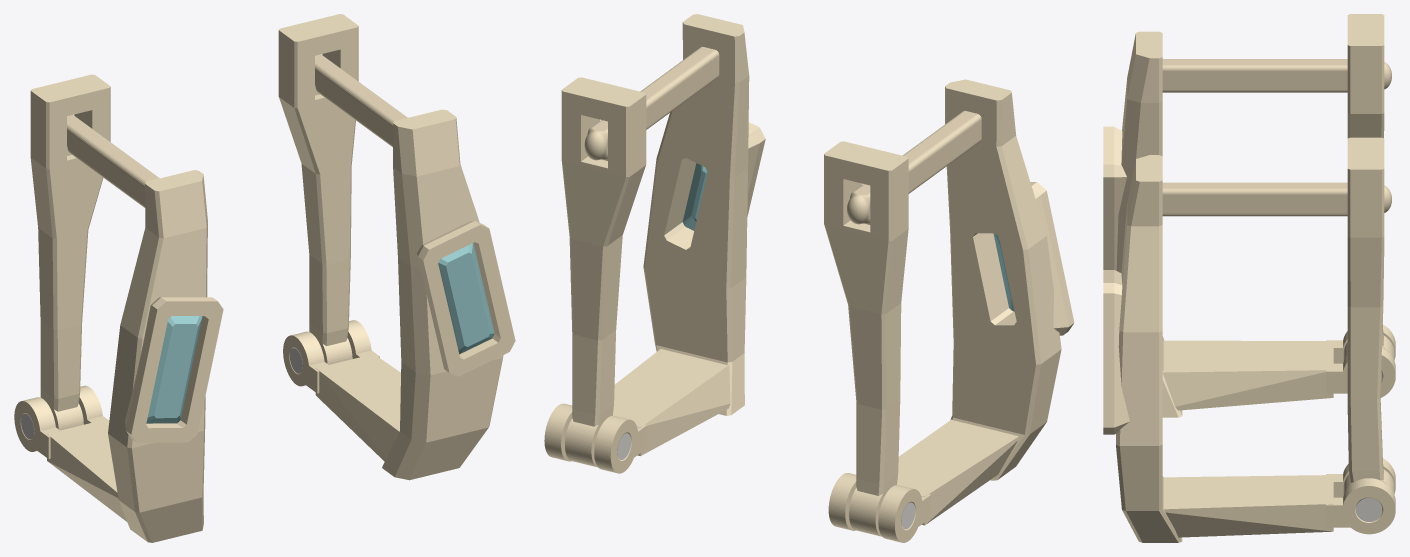
The model's file is Console.glb.
3 renders of one model, left to right at view 1: azimuth 30°, elevation 25°; view 2: azimuth 150°, elevation 25°; view 3: azimuth 270°, elevation 25°, orthographic. The views are drawn at different scales.
Visible parts, largest first — view 1: R_Body, L_Body, L_Shvenza, R_Shvenza, R_Baguette, L_Baguette, R_Post, L_Post; view 2: L_Body, R_Body, L_Shvenza, R_Shvenza, L_Post, R_Post, R_Baguette; view 3: R_Body, L_Body, R_Shvenza, R_Post, L_Post, L_Shvenza, R_Pin.
Part boxes in pixels (x1,y1,x2,y2): R_Body: [283, 109, 515, 480]; L_Body: [14, 170, 223, 542]; L_Shvenza: [30, 74, 110, 430]; R_Shvenza: [278, 14, 358, 364]; R_Baguette: [438, 243, 494, 354]; L_Baguette: [146, 316, 202, 423]; R_Post: [315, 54, 407, 146]; L_Post: [67, 115, 159, 207]; L_Body: [828, 79, 1074, 542]; R_Body: [544, 14, 765, 473]; L_Shvenza: [824, 141, 908, 536]; R_Shvenza: [561, 77, 646, 467]; L_Post: [847, 110, 981, 224]; R_Post: [584, 46, 719, 160]; R_Baguette: [682, 163, 707, 230]; R_Body: [1103, 155, 1395, 542]; L_Body: [1103, 31, 1395, 417]; R_Shvenza: [1343, 137, 1394, 494]; R_Post: [1162, 182, 1391, 216]; L_Post: [1162, 59, 1391, 92]; L_Shvenza: [1343, 14, 1394, 360]; R_Pin: [1356, 498, 1382, 521].
Bounding box in the file's own units: 0.0172 × 0.0156 × 0.0111.
